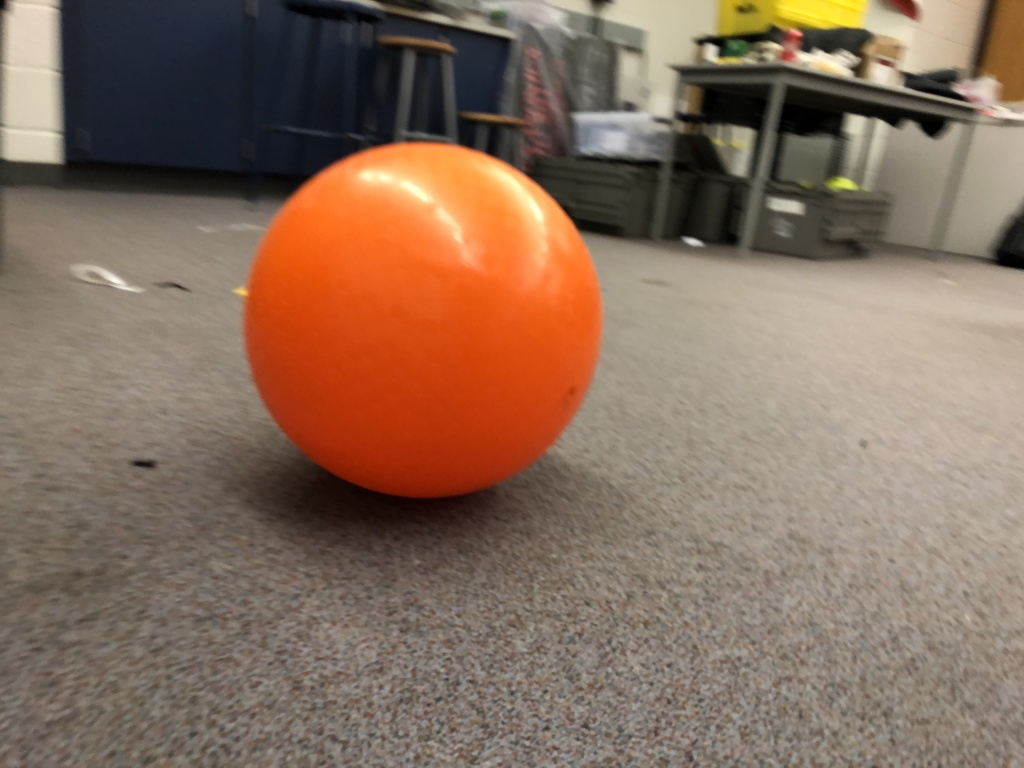cargo: (238, 130, 600, 511)
